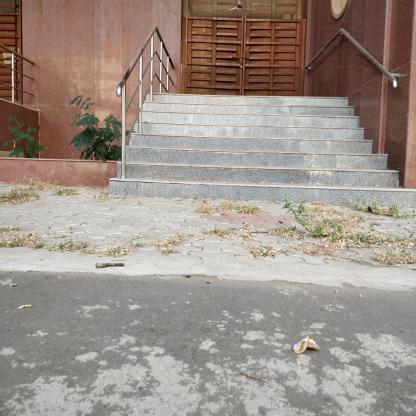stairs: (162, 92, 352, 205)
